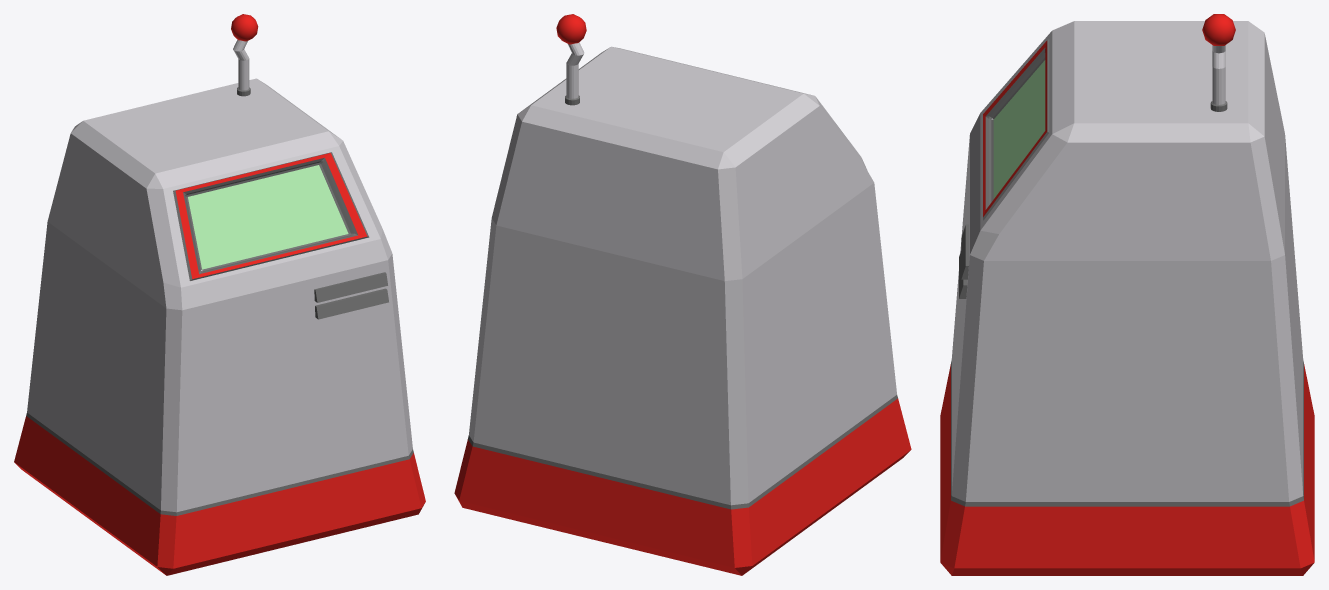
File: botExtinguisher.fbx
3 renders of one model, left to right at view 1: azimuth 30°, elevation 25°; view 2: azimuth 150°, elevation 25°; view 3: azimuth 270°, elevation 25°, orthographic. The views are drawn at different scales.
Visible parts, largest first — view 1: Bot - Extinguisher; view 2: Bot - Extinguisher; view 3: Bot - Extinguisher.
Part boxes in pixels (x1,y1,x2,y2): Bot - Extinguisher: [14, 14, 425, 575]; Bot - Extinguisher: [454, 14, 911, 575]; Bot - Extinguisher: [940, 14, 1314, 575].
Size of the model in its own units: 82.85 by 82.85 by 128.
